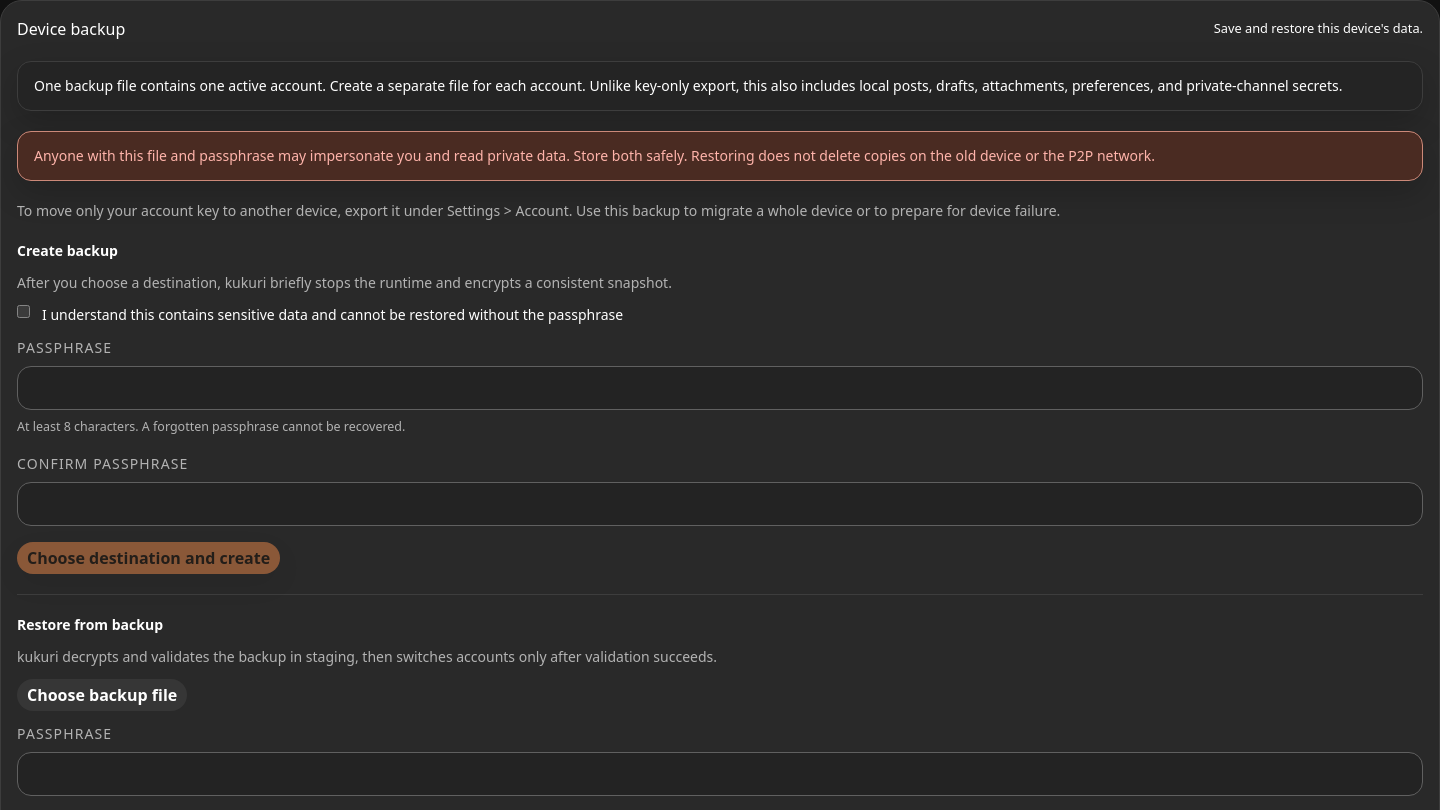
Test case: creates one encrypted backup file only after risk acknowledgement
expect the button "Choose destination and create" is disabled: met, box [17, 542, 280, 574]
Click the checkbox with test id "device-backup-acknowledge". click: (24,312)
box: [17, 305, 30, 318]
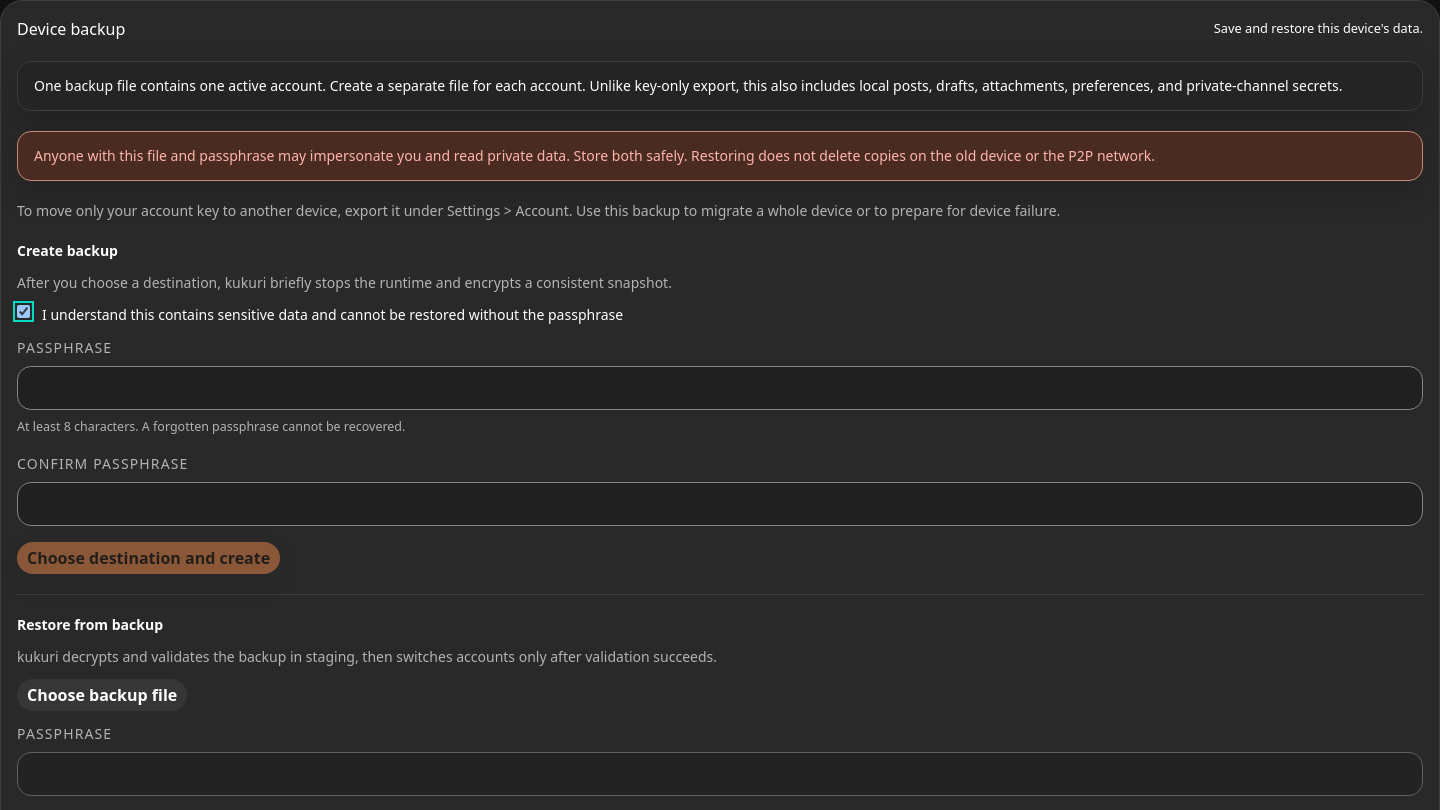
Type "long passphrase" into the password field with test id "device-backup-passphrase". click: (720,388)
box: [17, 366, 1423, 410]
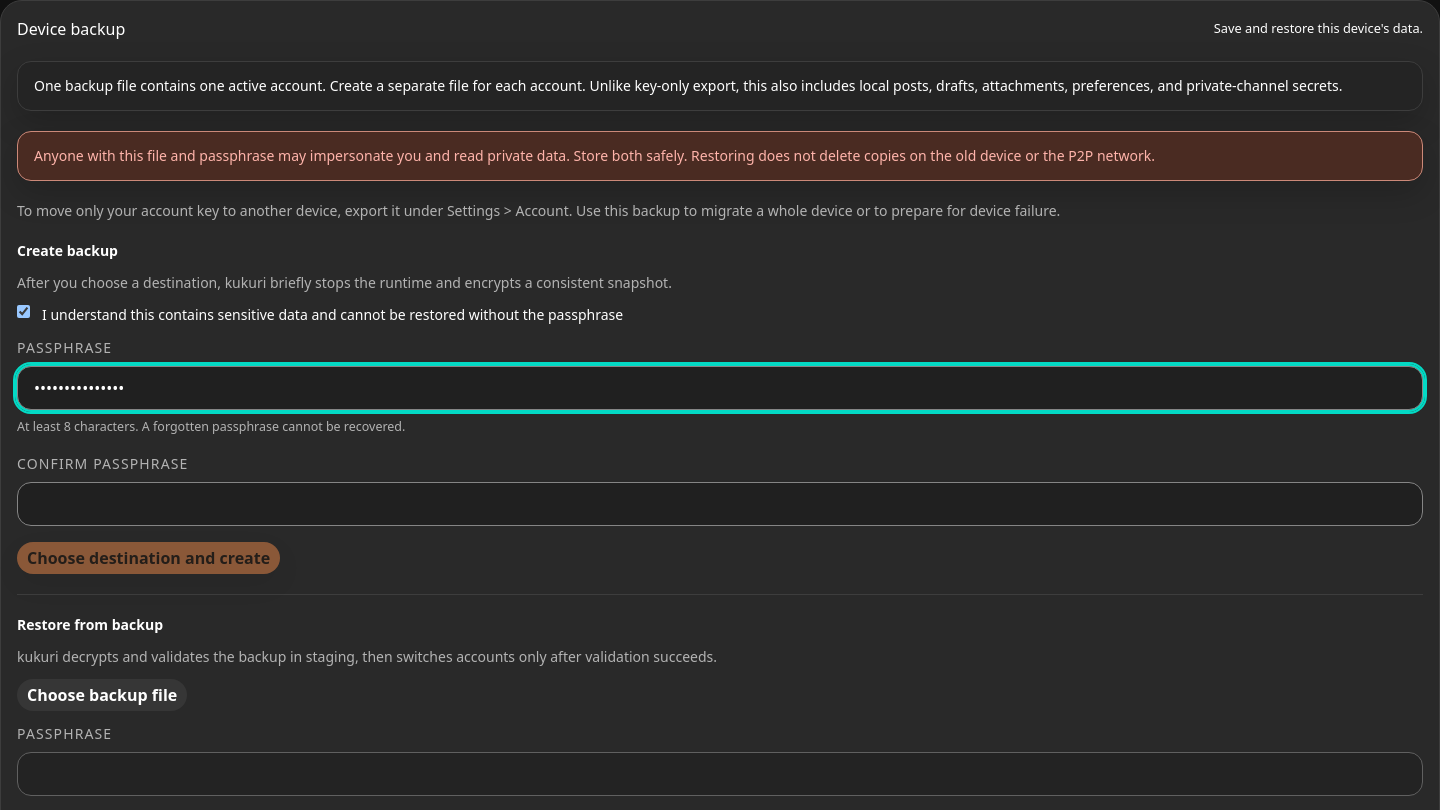
Type "long passphrase" into the password field with test id "device-backup-passphrase-confirm". click: (720,504)
box: [17, 482, 1423, 526]
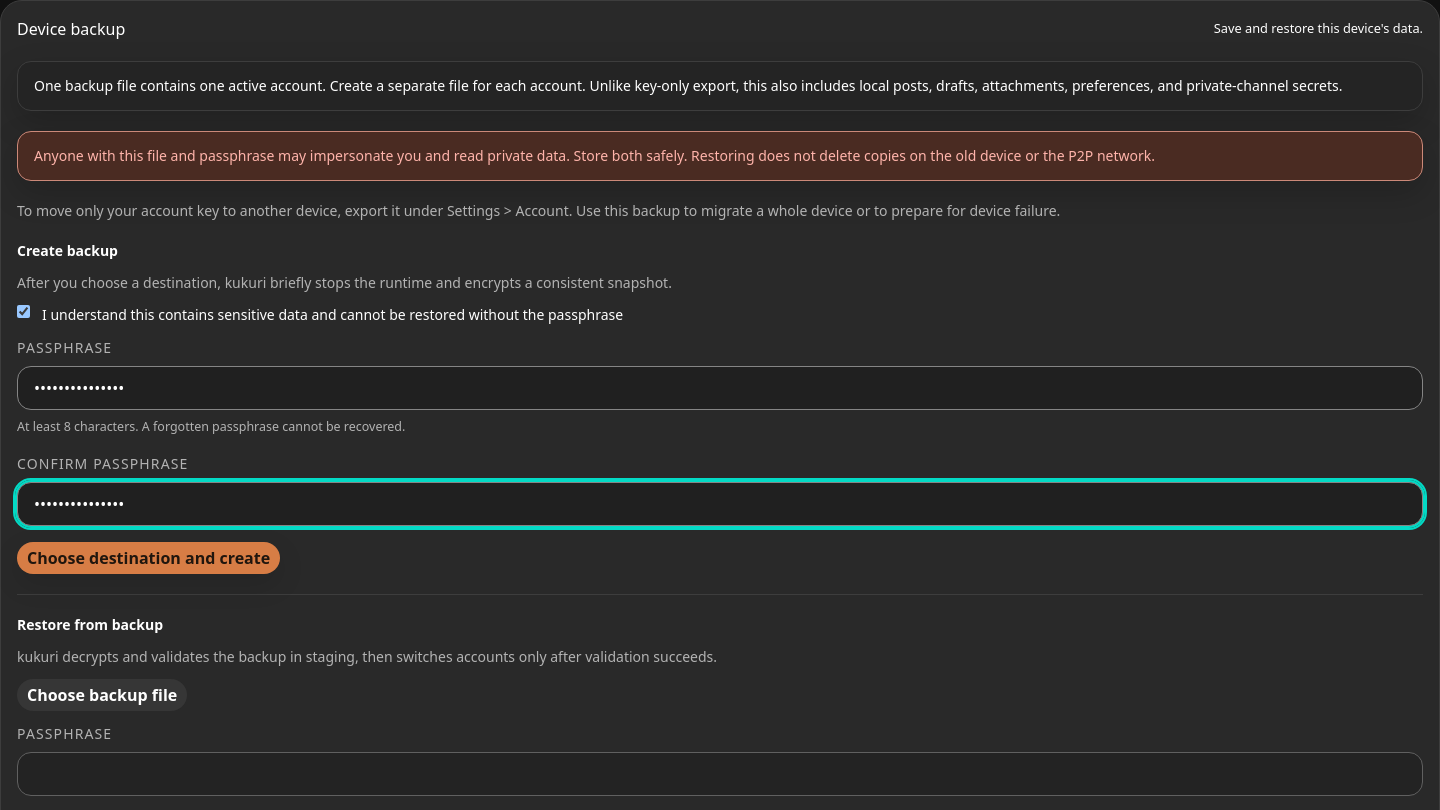
expect the button "Choose destination and create" is enabled: met
Click the button "Choose destination and create". click: (149,558)
box: [17, 542, 280, 574]
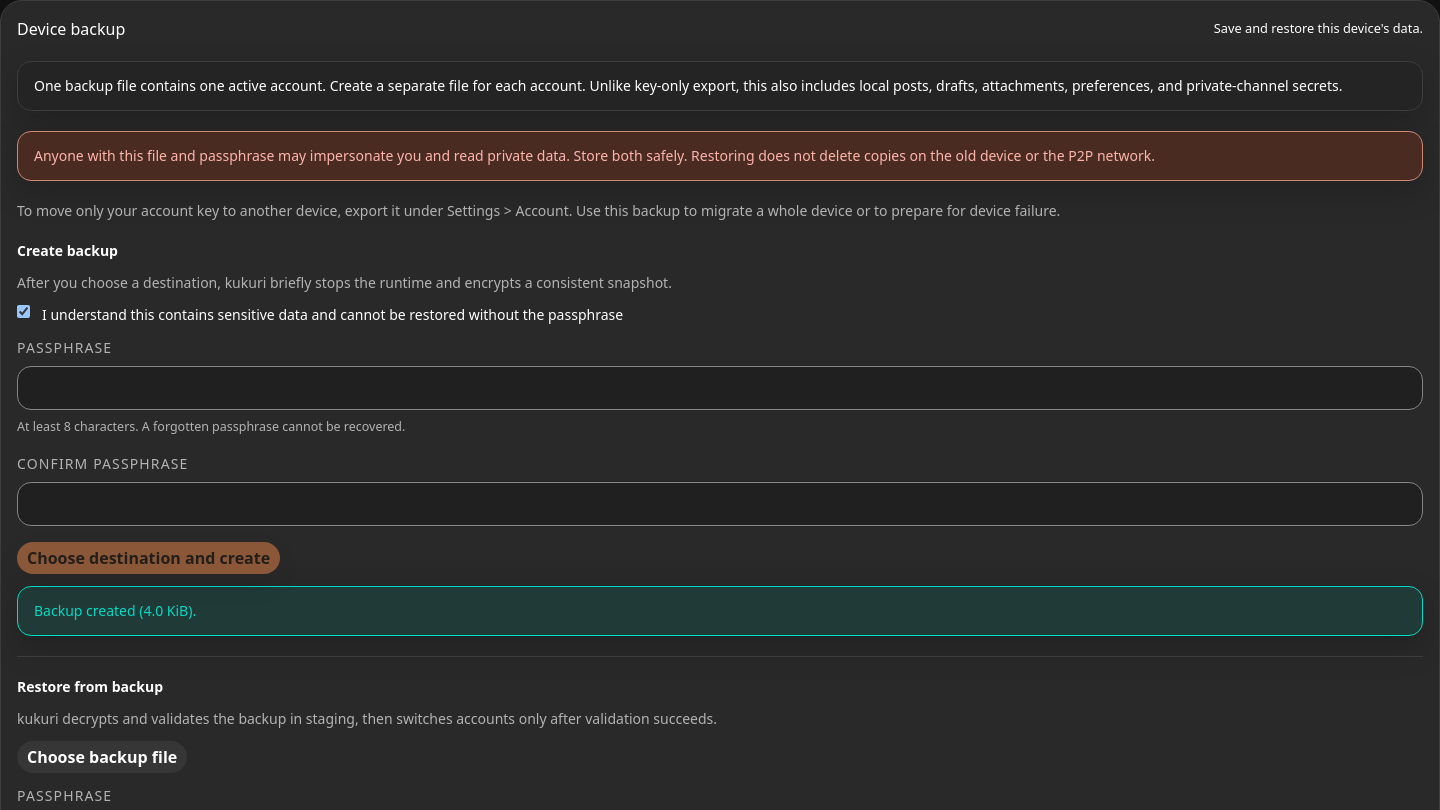
expect the text with test id "device-backup-created" shows "4.0 KiB": met, box [34, 601, 196, 620]
